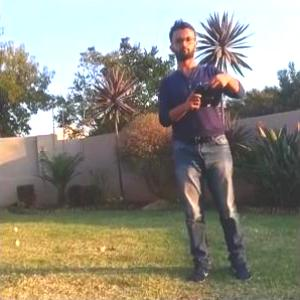follow: (156, 13, 261, 286)
